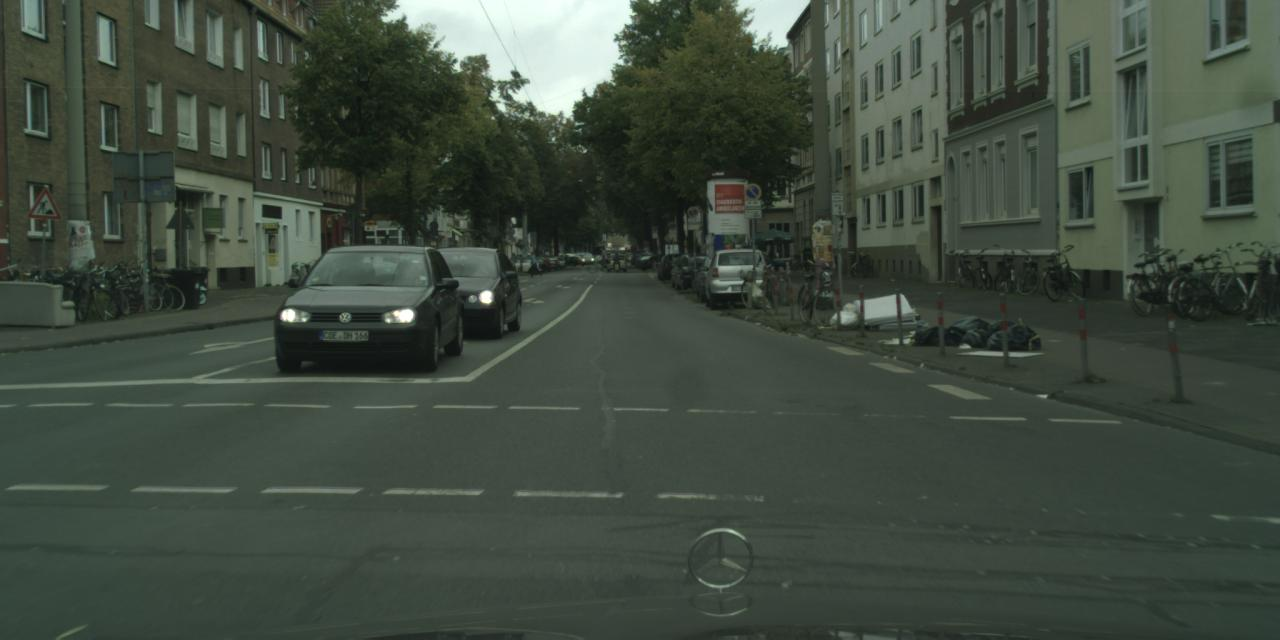ped: (529, 251, 539, 275), (598, 246, 606, 269), (509, 252, 516, 272), (612, 253, 618, 268)
